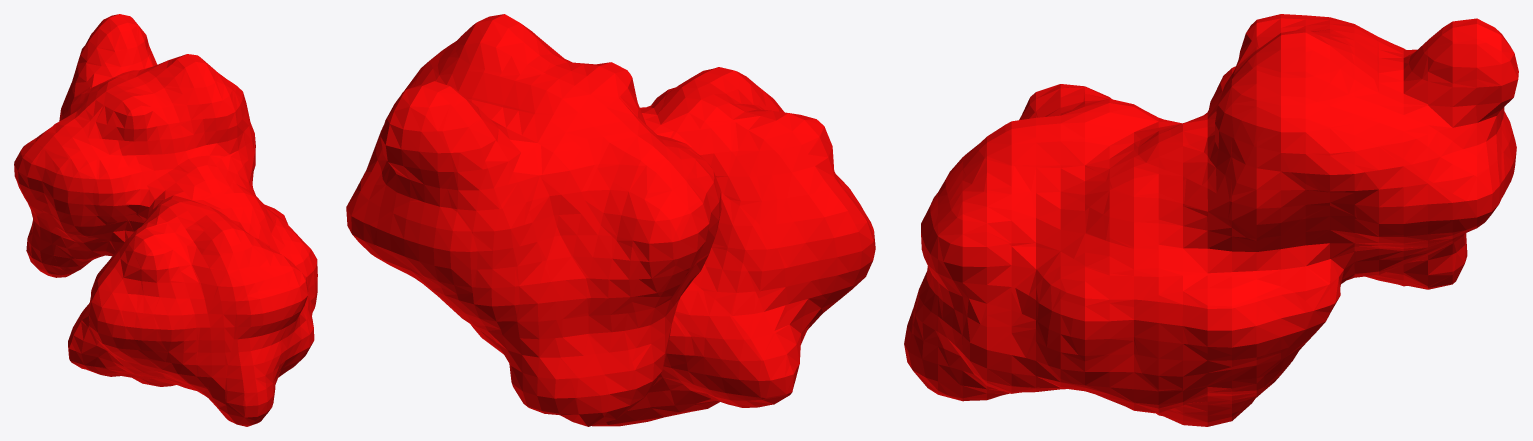
The model's file is garK_coarse.dae.
The picture shows the model from 3 angles, left to right: view 1: azimuth 30°, elevation 25°; view 2: azimuth 150°, elevation 25°; view 3: azimuth 270°, elevation 25°; orthographic projection. The views are drawn at different scales.
Visible parts, largest first — view 1: garK; view 2: garK; view 3: garK.
Boxes of the visible parts, box(x1,y1,x2,y2) form: garK: box(14, 14, 317, 426); garK: box(346, 14, 875, 426); garK: box(904, 14, 1518, 426).
Size of the model in its own units: 50.07 by 56.51 by 73.8.
